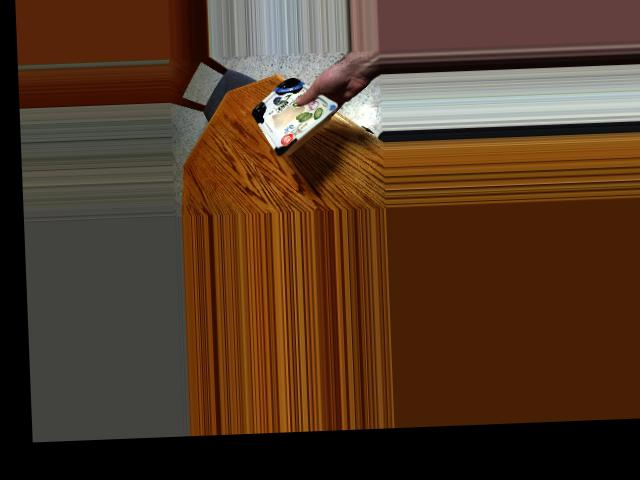cheese: (250, 84, 328, 152)
